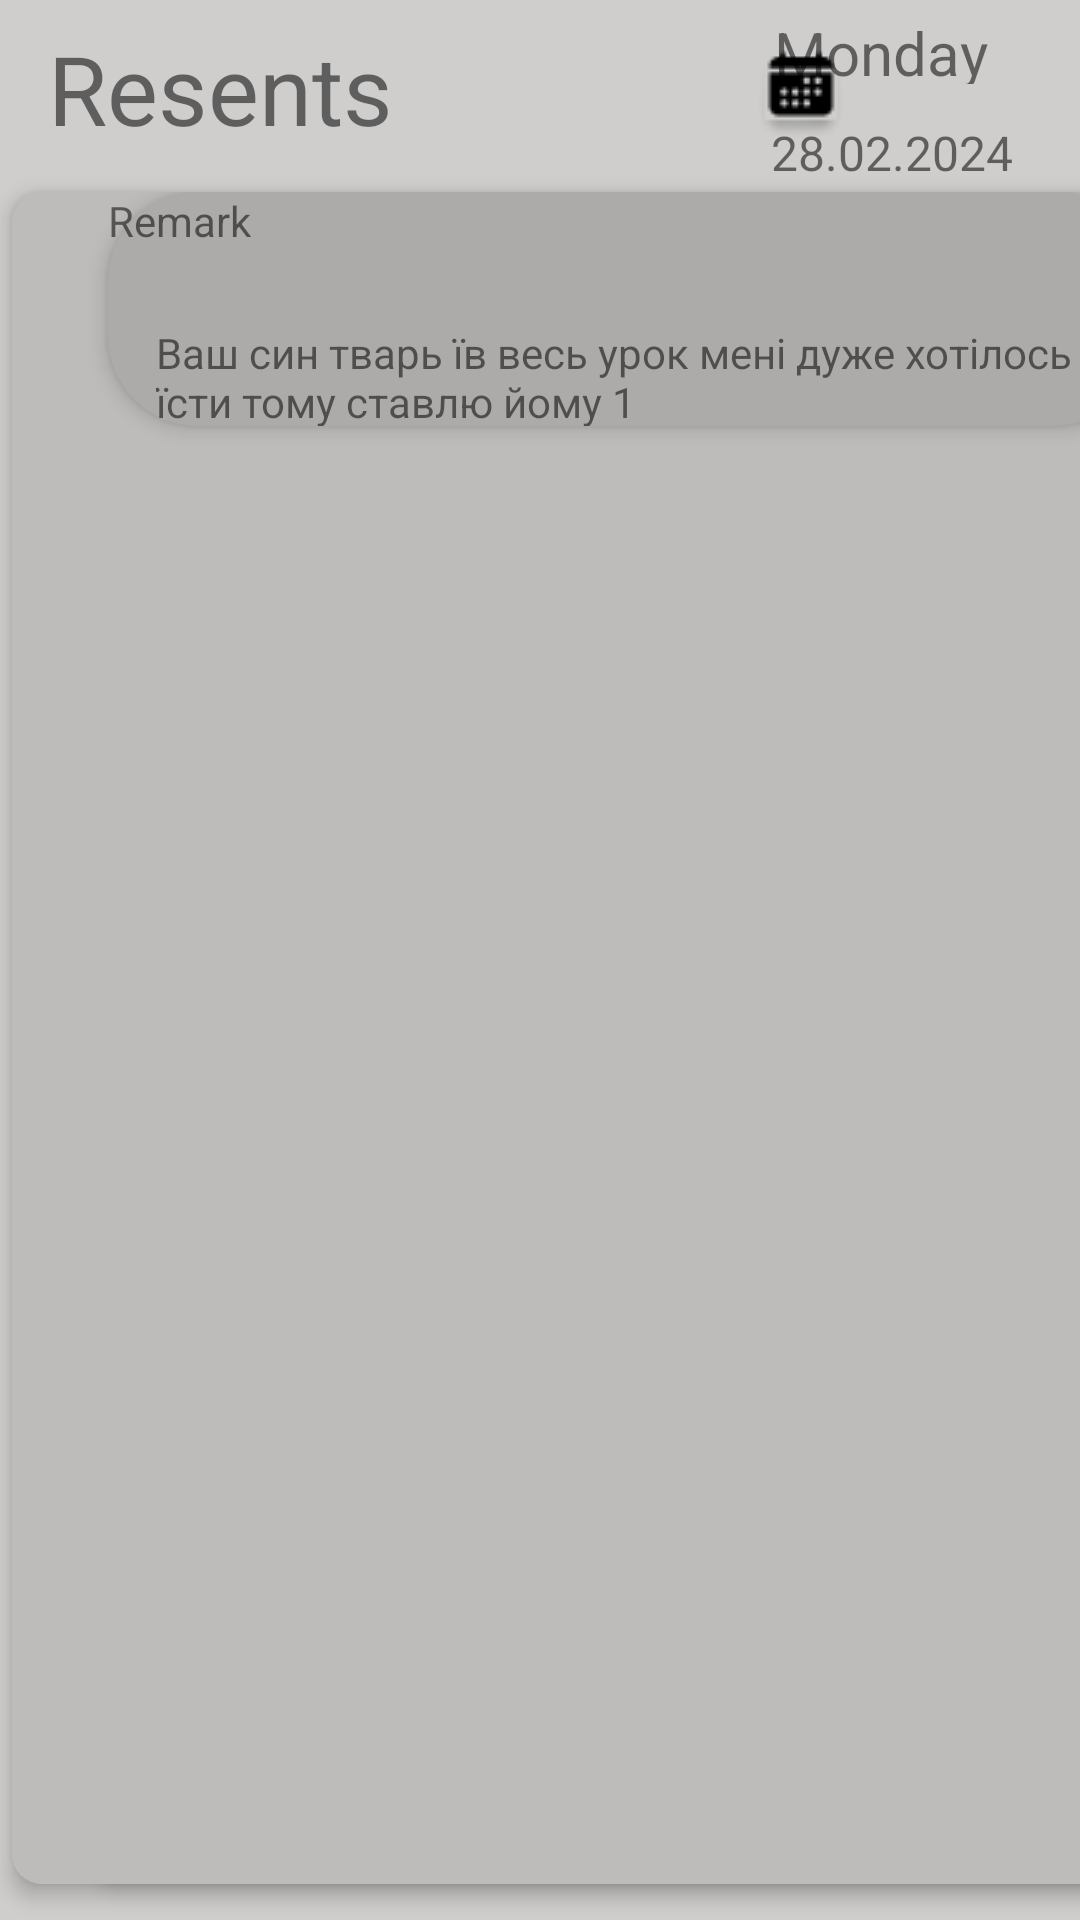

Icons on this 1080x1920 Android screen, each with its box as (x1, y1, x2, y2):
ionicons cale ndar: (767, 48, 846, 141)
